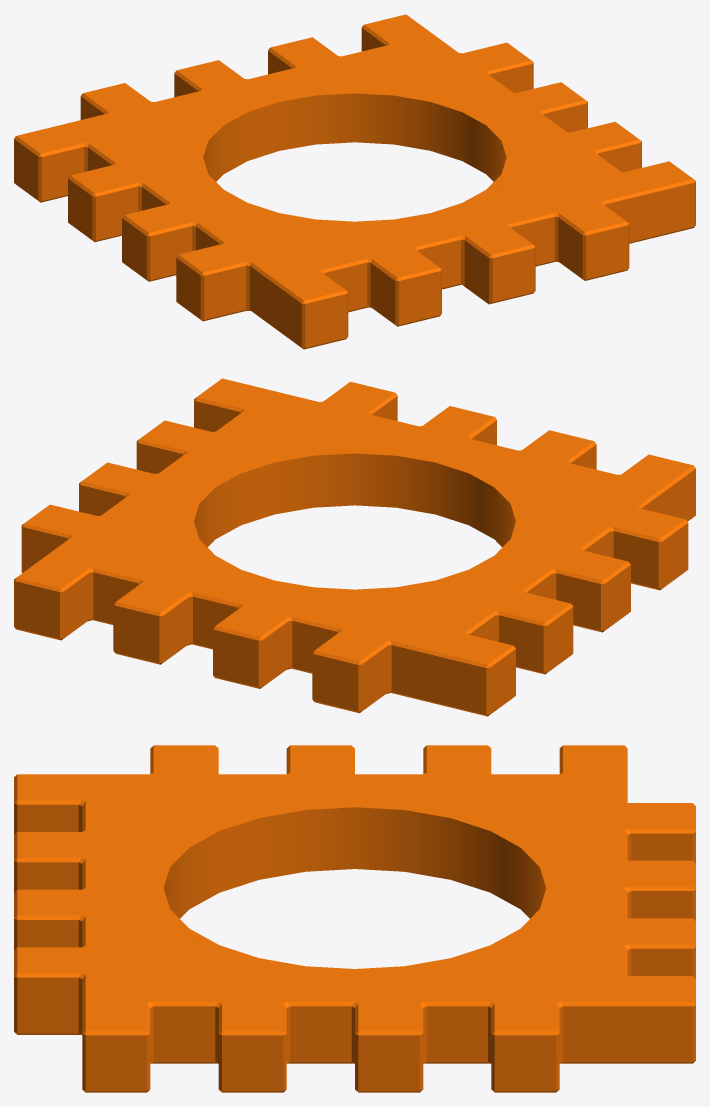
The model's file is YellowHole.fbx.
3 renders of one model, top to bottom at view 1: azimuth 30°, elevation 25°; view 2: azimuth 150°, elevation 25°; view 3: azimuth 270°, elevation 25°, orthographic. The views are drawn at different scales.
Parts seen in each view (by area): view 1: BlueSquareHole; view 2: BlueSquareHole; view 3: BlueSquareHole.
Part boxes in pixels (bbox=[...]): BlueSquareHole: bbox=[14, 14, 695, 349]; BlueSquareHole: bbox=[14, 378, 695, 716]; BlueSquareHole: bbox=[14, 745, 695, 1092].
Bounding box in the file's own units: 5 × 0.4999 × 5.
